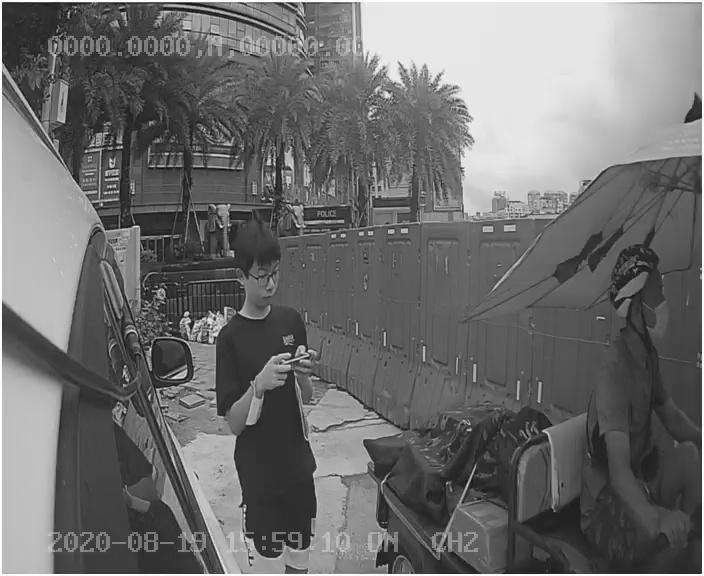person: (206, 229, 343, 530)
